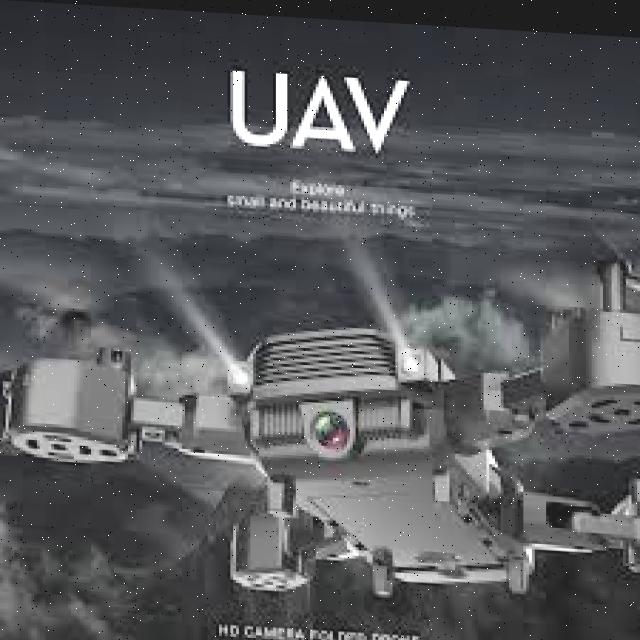drone: (0, 222, 640, 620)
